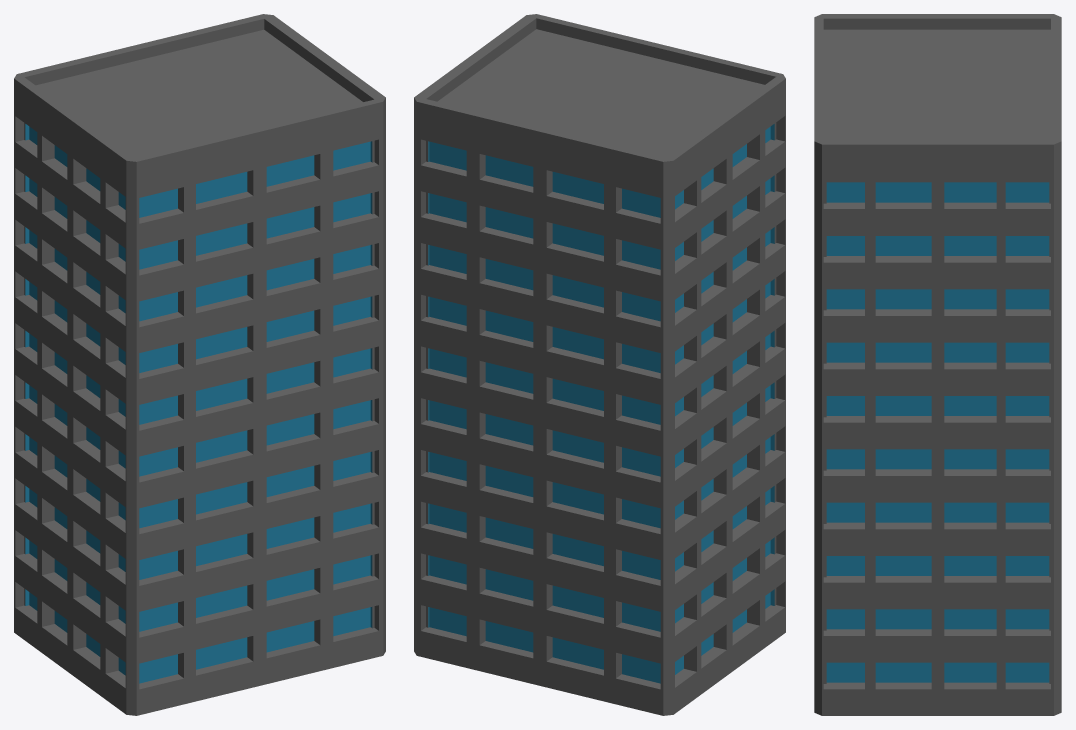
Rendered from blok.fbx.
The picture shows the model from 3 angles, left to right: view 1: azimuth 30°, elevation 25°; view 2: azimuth 150°, elevation 25°; view 3: azimuth 270°, elevation 25°; orthographic projection. The views are drawn at different scales.
Visible parts, largest first — view 1: blok; view 2: blok; view 3: blok.
Part boxes in pixels (x1,y1,x2,y2): blok: (14,14,385,715); blok: (414,14,785,715); blok: (814,14,1061,715).
Size of the model in its own units: 500 by 1020 by 400.
